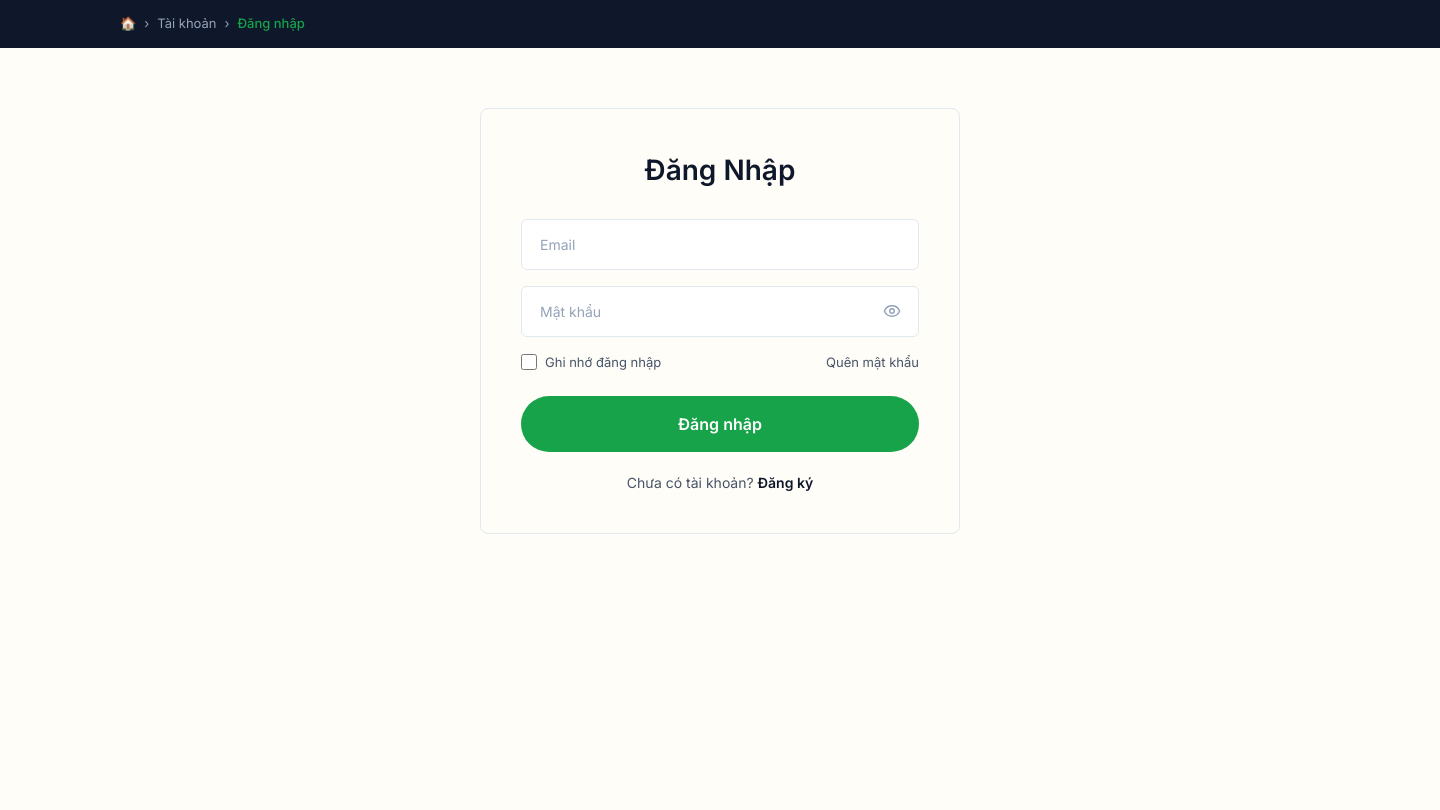
Test: Login - JWT response handling › does not store any token when login fails
Type "u@e.com" into the field with placeholder "Email" at (720,244), box [521,218,919,270]
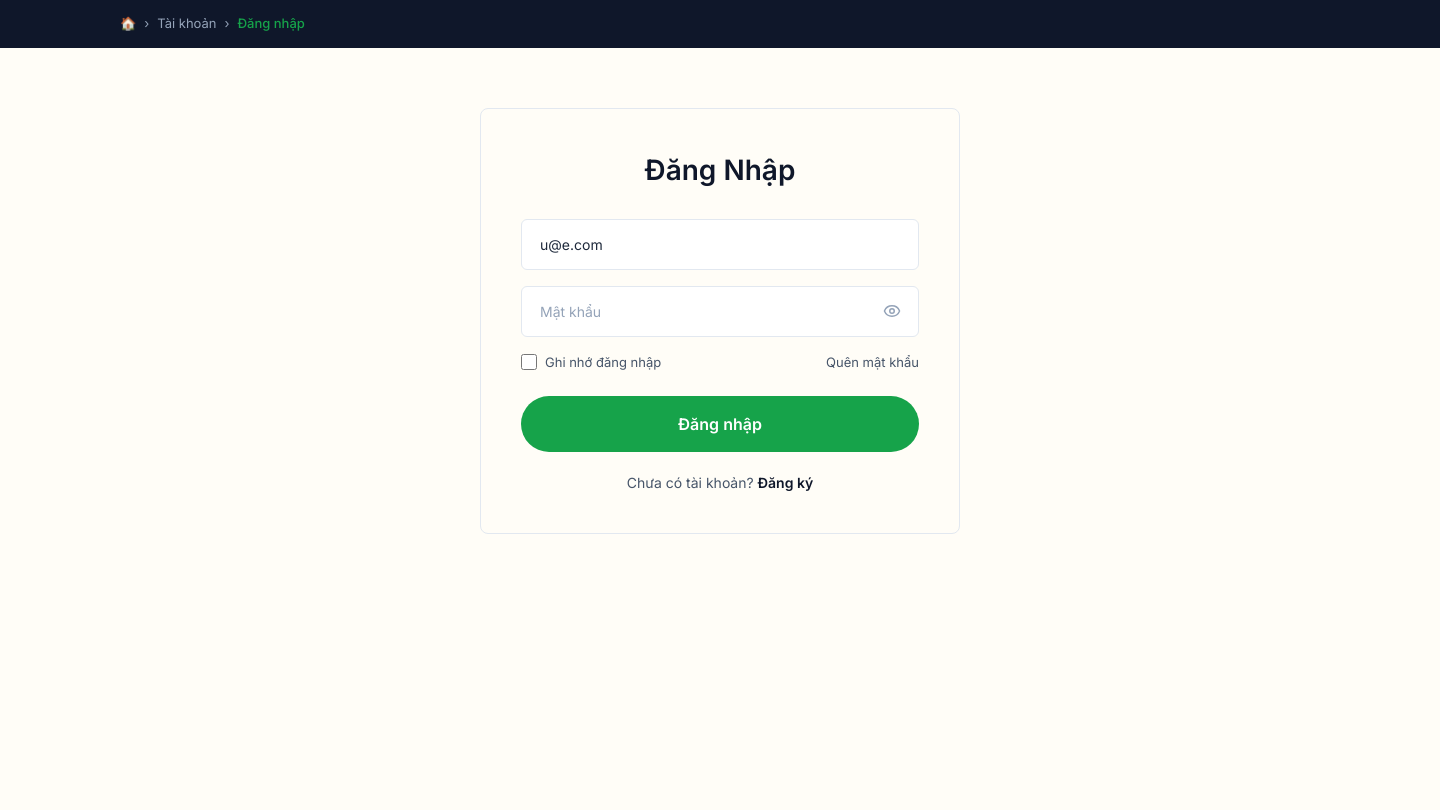
Type "pw" into the password field with placeholder "Mật khẩu" at (720,311), box [521,286,919,336]
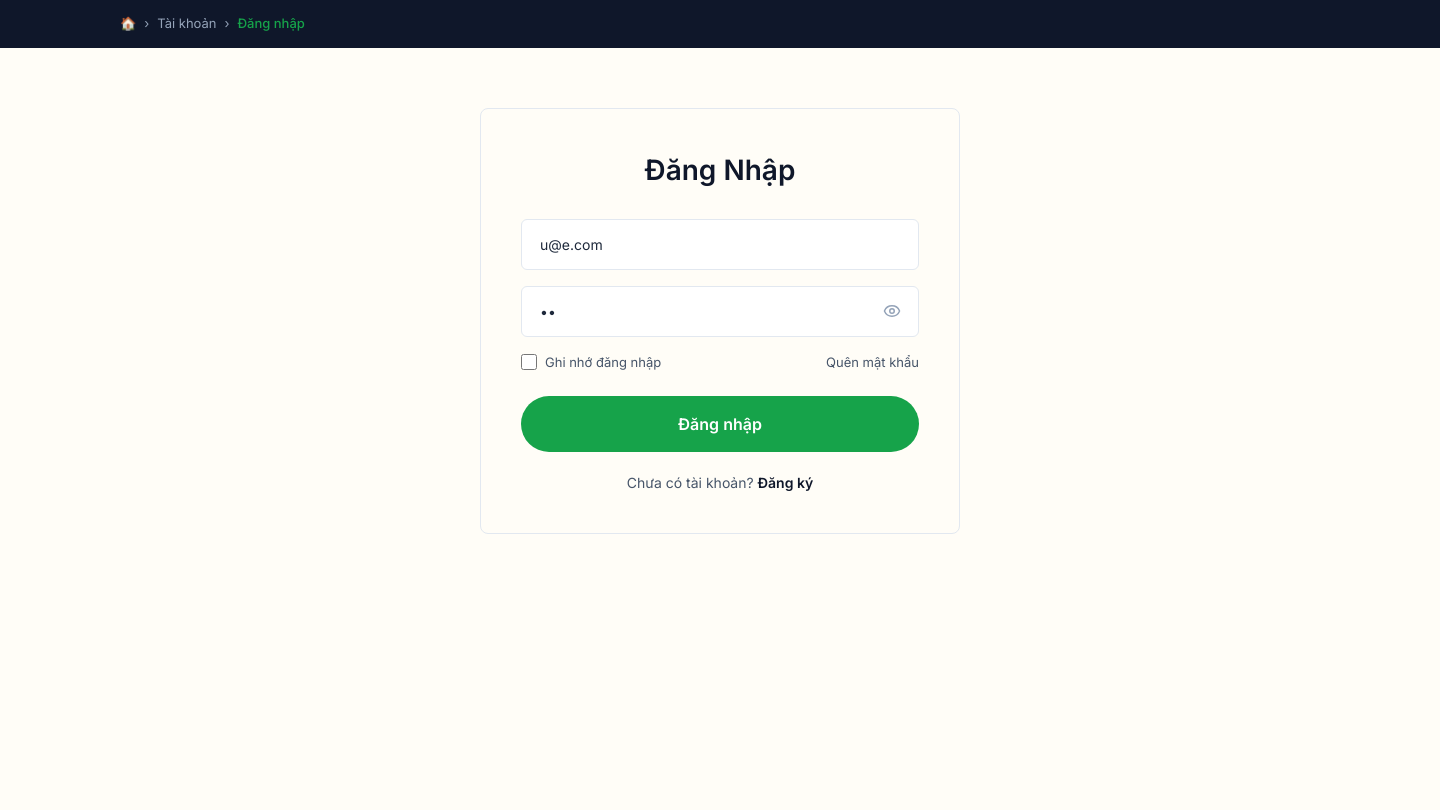
Click the button "Đăng nhập" at (720,424), box [521,396,919,452]
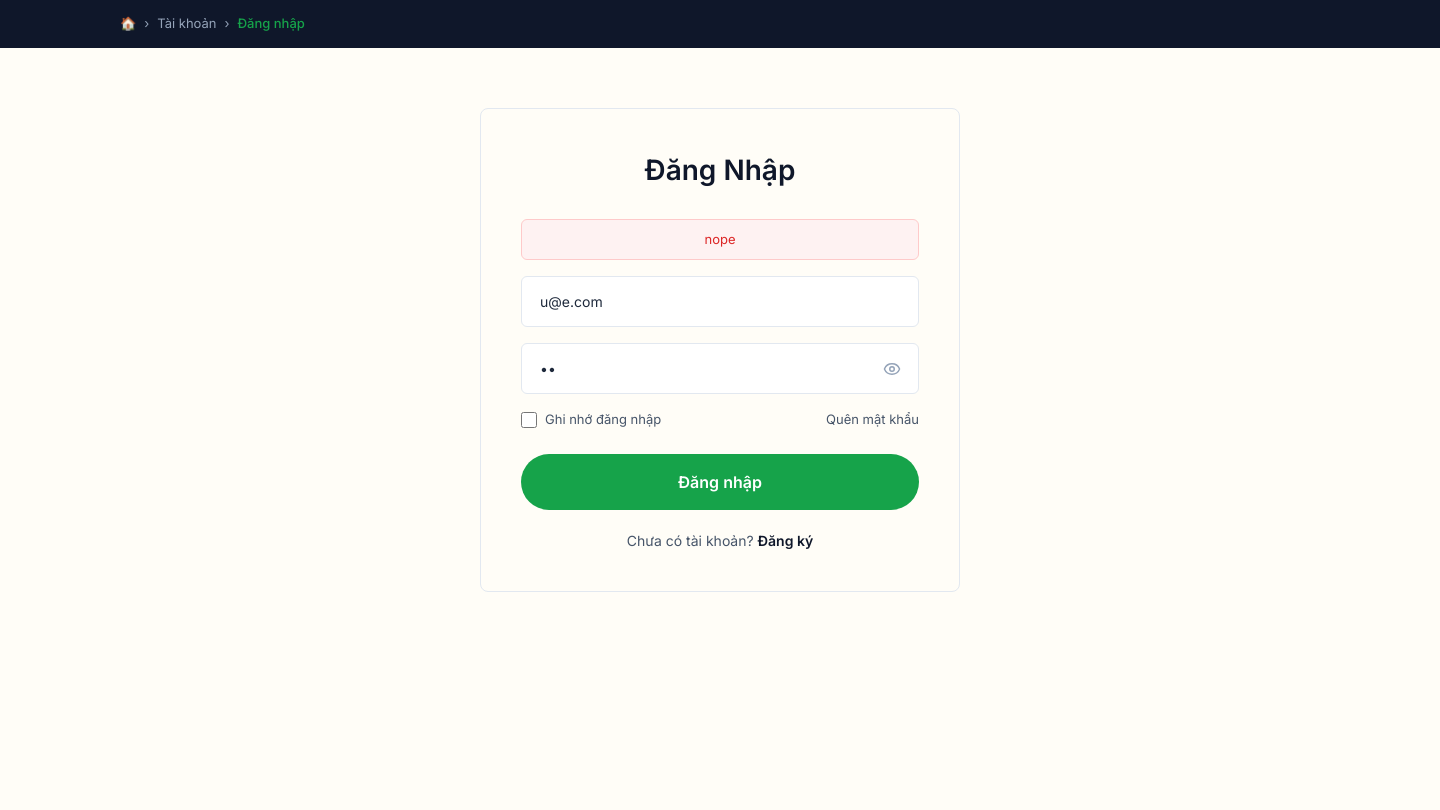
Expected: the text "nope" is shown, [521,218,919,260]
